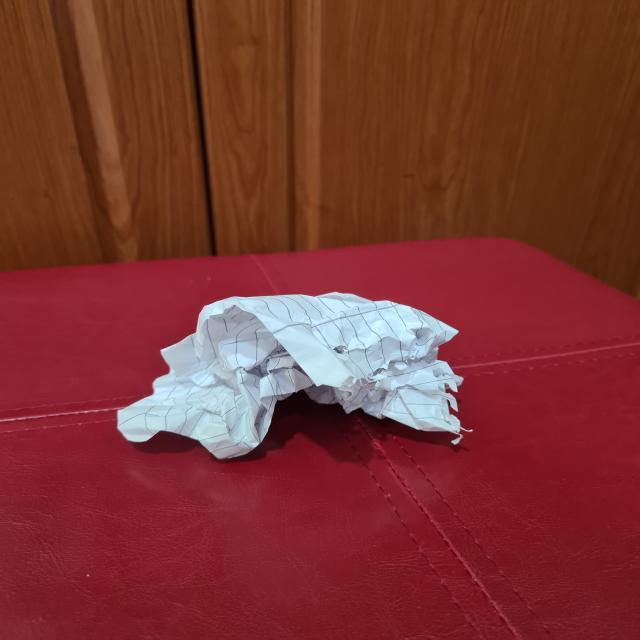Paper: (118, 292, 464, 461)
